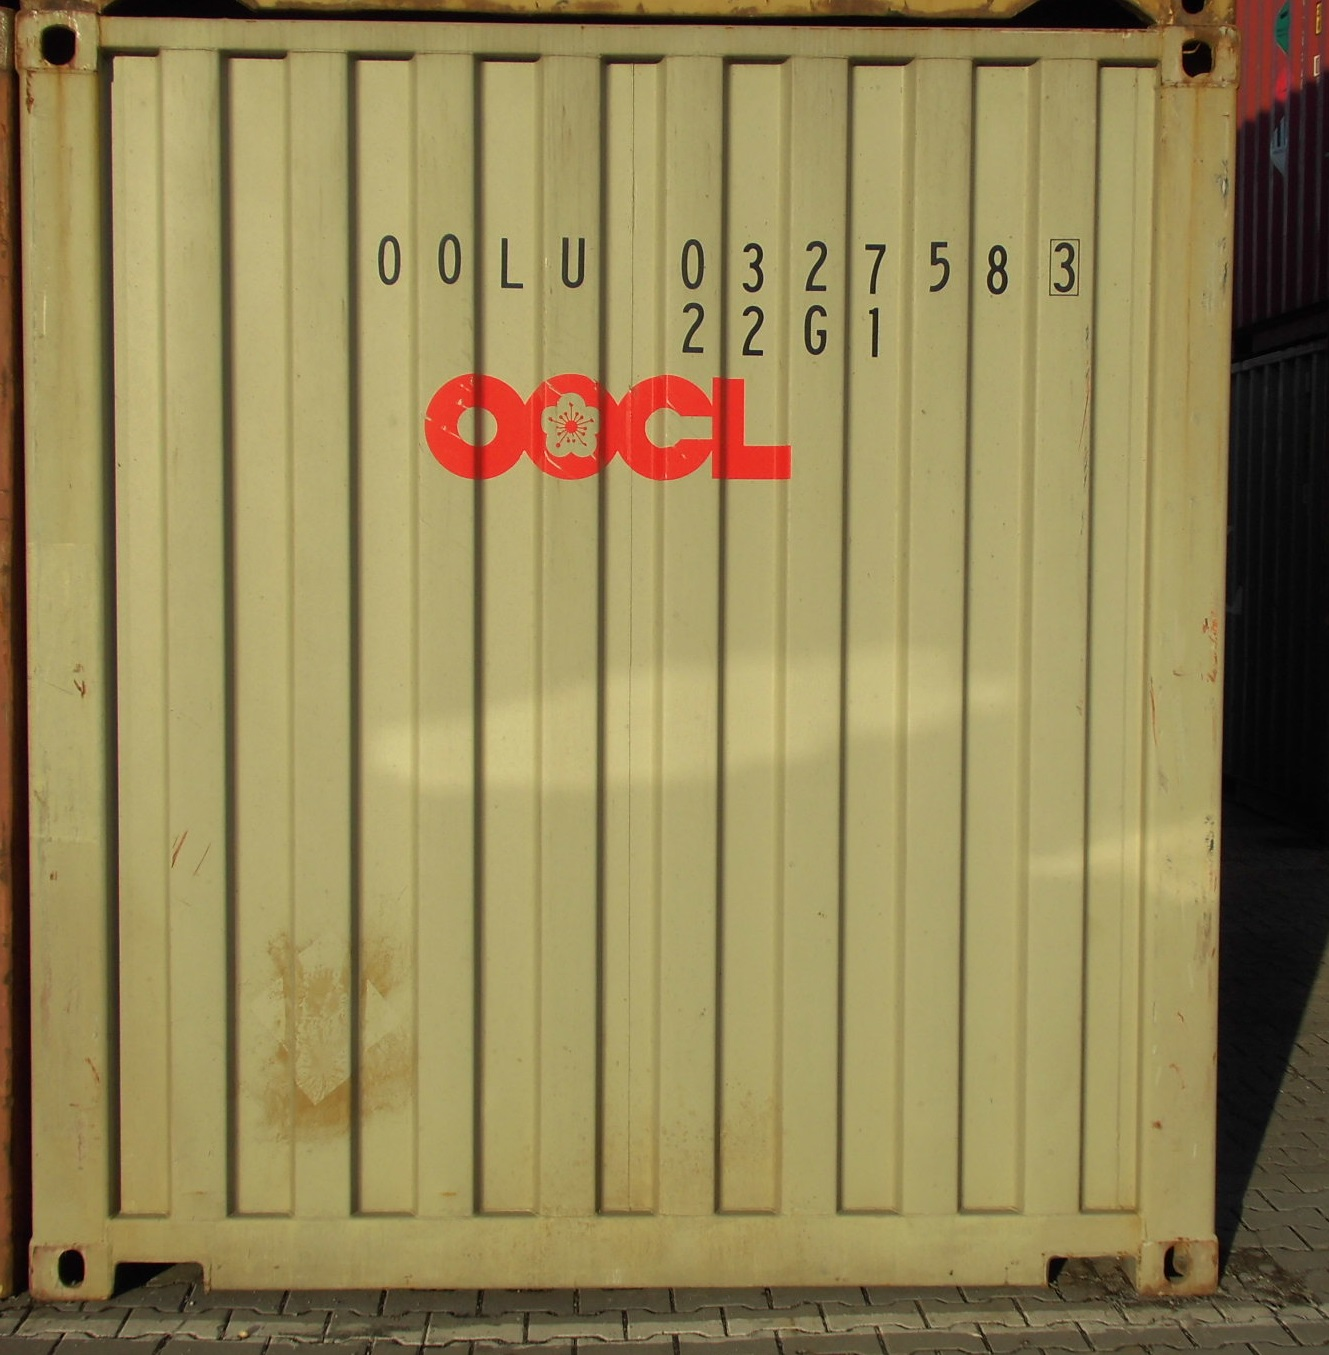container_no_door: (26, 13, 1224, 1304)
